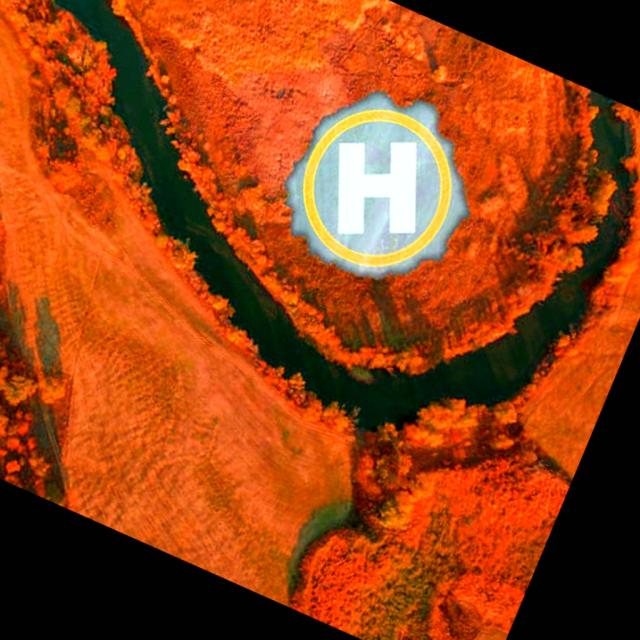helipad: (299, 106, 453, 269)
